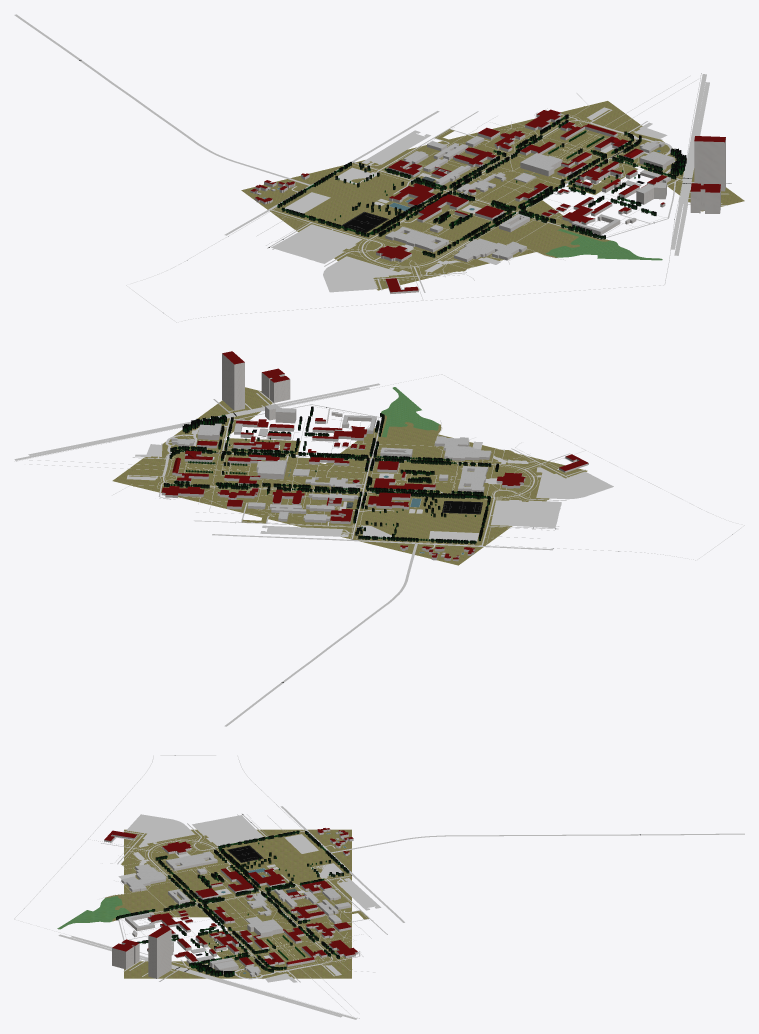
File: inner_loop.obj
3 views of the same model, one above another, from view 1: azimuth 30°, elevation 25°; view 2: azimuth 150°, elevation 25°; view 3: azimuth 270°, elevation 25° (orthographic). The views are drawn at different scales.
Visible parts, largest first — view 1: SurfaceArea2127, SurfaceArea2124, SurfaceArea2120, SurfaceParking West Lot 4, SurfaceArea2121, Road Main Street, SurfaceArea1986, Building Memorial Hermann Medical Plaza, SurfaceArea2033, SurfaceArea2123, SurfaceParking West Lot 3, SurfaceArea2130 (+22 smaller); view 2: SurfaceArea2127, SurfaceArea2124, SurfaceArea2120, SurfaceArea1986, SurfaceParking West Lot 4, SurfaceArea2121, Road Main Street, SurfaceArea2123, Building Memorial Hermann Medical Plaza, SurfaceArea2033, SurfaceArea2130, SurfaceArea2129 (+11 smaller); view 3: SurfaceArea2127, SurfaceArea2124, SurfaceArea2120, SurfaceParking West Lot 4, SurfaceArea1986, Building Memorial Hermann Medical Plaza, SurfaceArea2123, SurfaceArea2121, Road Main Street, SurfaceArea2130, SurfaceArea2033, SurfaceArea2129 (+10 smaller).
Boxes of the visible parts, left/top/right/bottom form: SurfaceArea2127: left=469, top=125, right=638, bottom=191; SurfaceArea2124: left=367, top=147, right=530, bottom=216; SurfaceArea2120: left=334, top=220, right=485, bottom=290; SurfaceParking West Lot 4: left=323, top=256, right=411, bottom=292; SurfaceArea2121: left=254, top=181, right=420, bottom=235; Road Main Street: left=670, top=74, right=709, bottom=255; SurfaceArea1986: left=304, top=174, right=407, bottom=234; Building Memorial Hermann Medical Plaza: left=694, top=136, right=725, bottom=191; SurfaceArea2033: left=545, top=229, right=662, bottom=260; SurfaceArea2123: left=426, top=193, right=587, bottom=263; SurfaceParking West Lot 3: left=271, top=234, right=345, bottom=263; SurfaceArea2130: left=578, top=110, right=674, bottom=165; SurfaceArea2127: left=178, top=439, right=324, bottom=507; SurfaceArea2124: left=267, top=464, right=417, bottom=530; SurfaceArea2120: left=432, top=446, right=587, bottom=505; SurfaceArea1986: left=361, top=497, right=486, bottom=539; SurfaceParking West Lot 4: left=536, top=467, right=613, bottom=499; SurfaceArea2121: left=397, top=489, right=511, bottom=556; Road Main Street: left=14, top=383, right=379, bottom=460; SurfaceArea2123: left=325, top=427, right=485, bottom=483; Building Memorial Hermann Medical Plaza: left=222, top=351, right=244, bottom=410; SurfaceArea2033: left=381, top=387, right=439, bottom=437; SurfaceArea2130: left=124, top=429, right=222, bottom=481; SurfaceArea2129: left=189, top=387, right=272, bottom=439; SurfaceArea2127: left=227, top=917, right=330, bottom=961; SurfaceArea2124: left=227, top=873, right=330, bottom=917; SurfaceArea2120: left=124, top=829, right=227, bottom=873; SurfaceParking West Lot 4: left=127, top=814, right=195, bottom=847; SurfaceArea1986: left=224, top=837, right=333, bottom=883; Building Memorial Hermann Medical Plaza: left=148, top=926, right=171, bottom=978; SurfaceArea2123: left=124, top=873, right=227, bottom=917; SurfaceArea2121: left=227, top=829, right=330, bottom=873; Road Main Street: left=58, top=934, right=357, bottom=1019; SurfaceArea2130: left=227, top=961, right=330, bottom=978; SurfaceArea2033: left=57, top=896, right=151, bottom=929; SurfaceArea2129: left=124, top=961, right=227, bottom=978.
Size of the model in its own units: 1814 by 131 by 2116.
